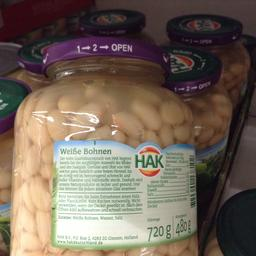beans: (14, 36, 196, 254)
